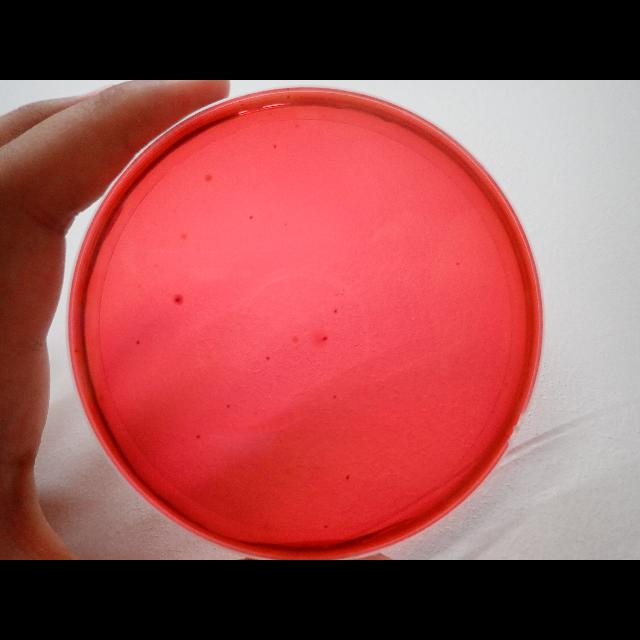colony: (173, 295, 181, 305), (322, 333, 328, 342), (136, 338, 142, 346), (265, 354, 271, 362), (332, 308, 340, 314), (344, 474, 350, 481), (250, 213, 254, 220), (273, 144, 277, 148)
